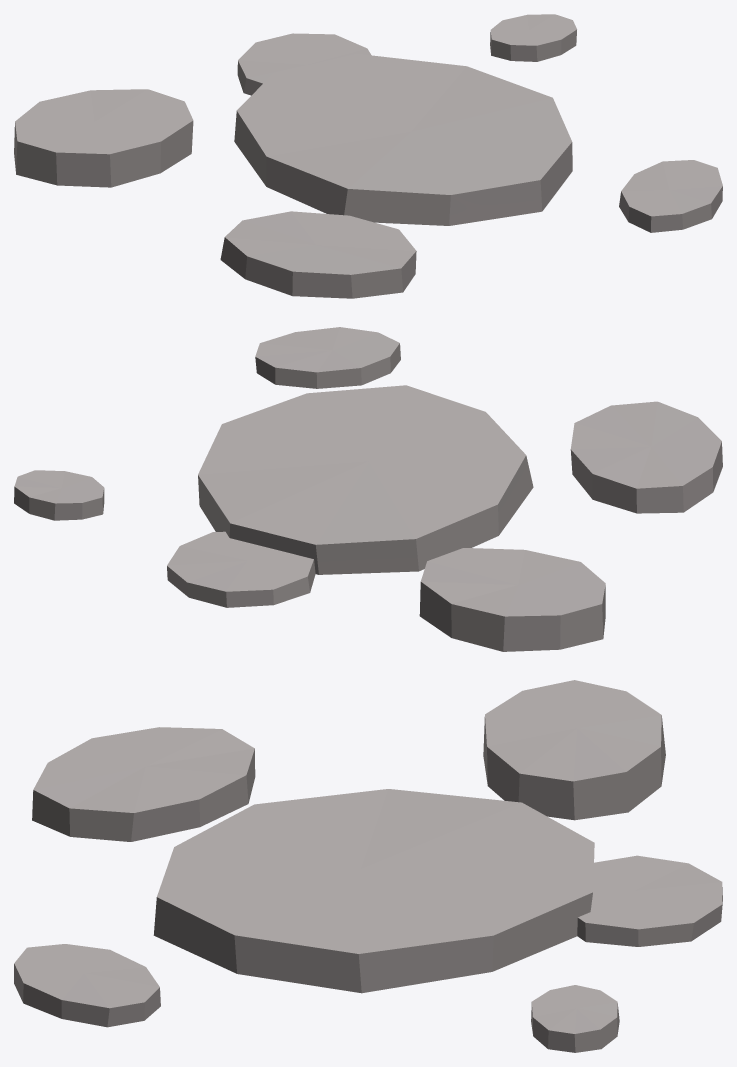
Rendered from Chemin_cailloux_V2.fbx.
The picture shows the model from 3 angles, top to bottom: view 1: azimuth 30°, elevation 25°; view 2: azimuth 150°, elevation 25°; view 3: azimuth 270°, elevation 25°; orthographic projection. The views are drawn at different scales.
Visible parts, largest first — view 1: Icosphere.007; view 2: Icosphere.007; view 3: Icosphere.007.
Part boxes in pixels (bbox=[...]): Icosphere.007: bbox=[14, 14, 722, 298]; Icosphere.007: bbox=[14, 327, 722, 651]; Icosphere.007: bbox=[14, 680, 722, 1052].
Bounding box in the file's own units: 107 × 6.12 × 95.21.
